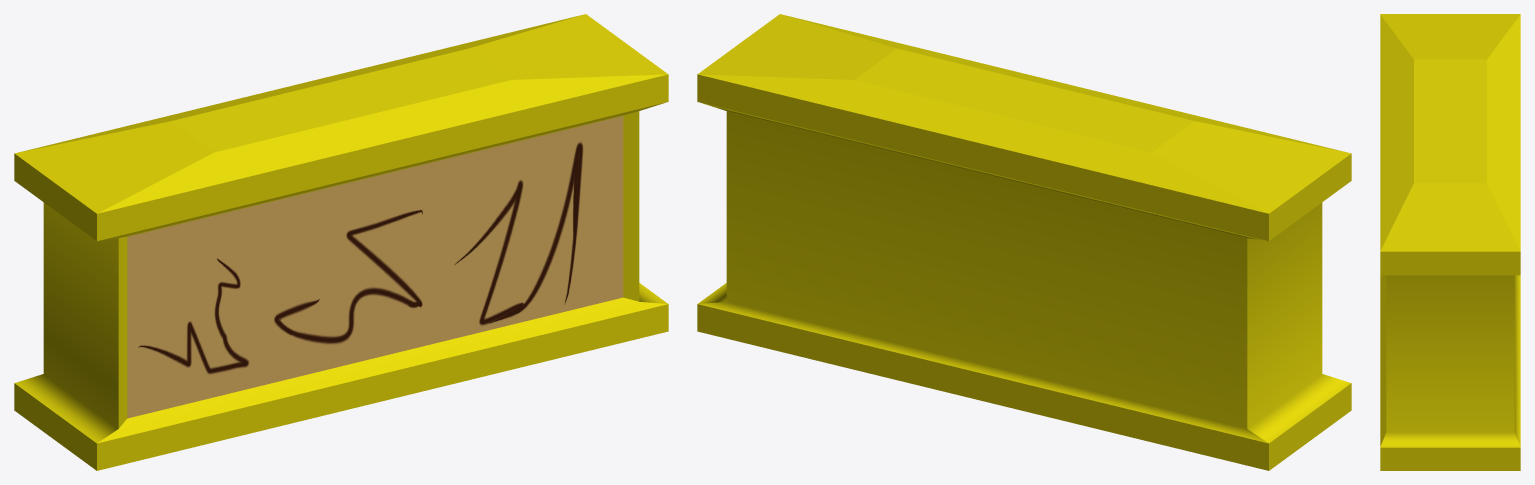
The model's file is Perfect Seal.fbx.
The picture shows the model from 3 angles, left to right: view 1: azimuth 30°, elevation 25°; view 2: azimuth 150°, elevation 25°; view 3: azimuth 270°, elevation 25°; orthographic projection. The views are drawn at different scales.
Visible parts, largest first — view 1: pCube1; view 2: pCube1; view 3: pCube1.
Boxes of the visible parts, bbox=[...] form: pCube1: bbox=[14, 14, 668, 470]; pCube1: bbox=[697, 14, 1351, 470]; pCube1: bbox=[1380, 14, 1520, 470].
Size of the model in its own units: 21.95 by 10.42 by 5.49.
Materials: 2 (2 with a texture image).
